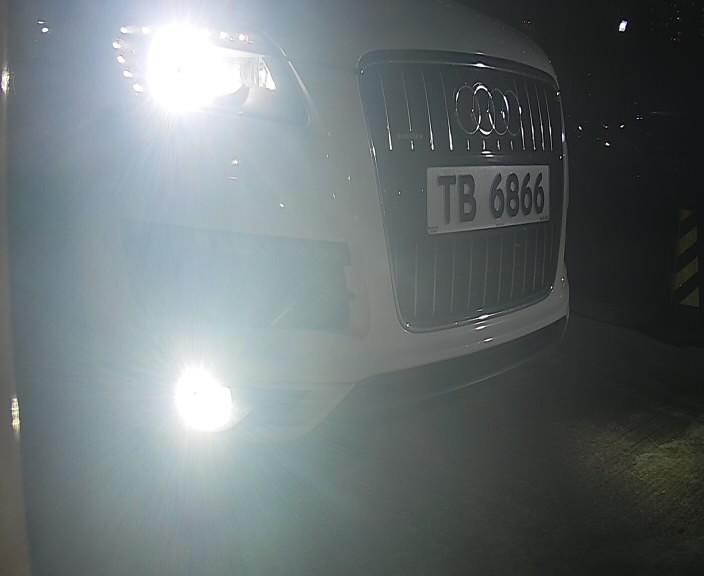Car: (13, 16, 642, 517)
License Plate: (409, 142, 569, 250)
